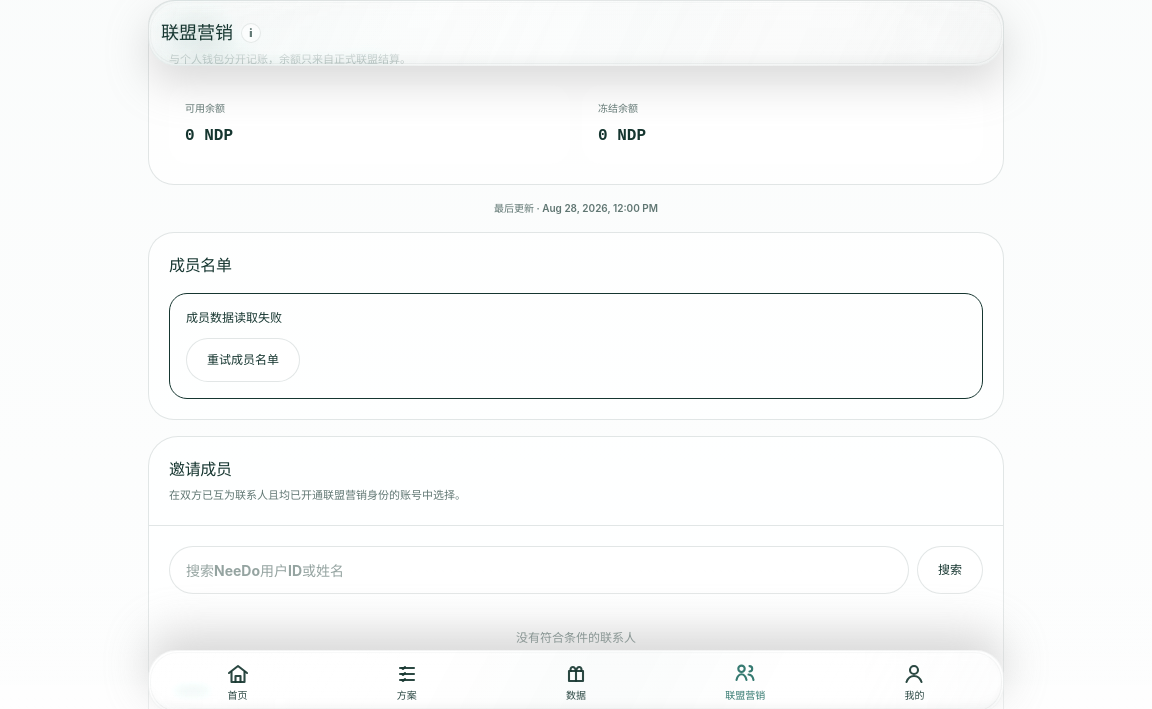
Test: AffiliateAlliancePage › renders expired history, paged controls, recoverable owner errors, and one create label
(page scrolled)
Click the button "重试成员名单" at (243, 360), box [186,338,300,382]
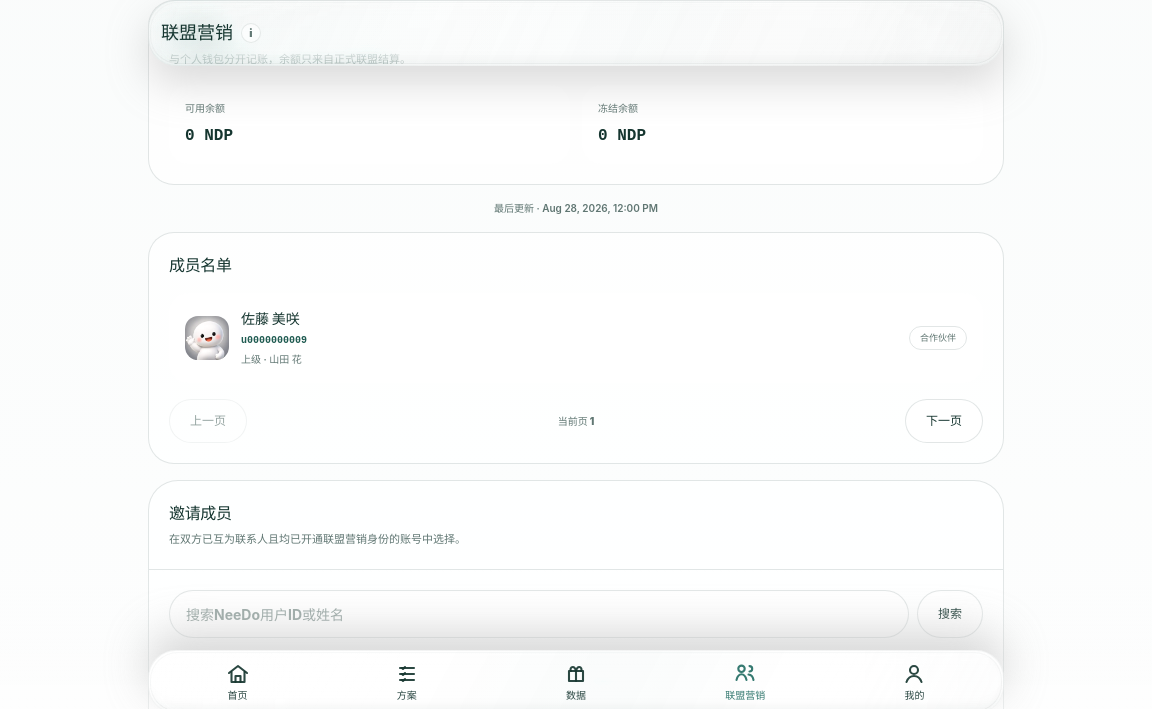
Expected: the text "下一页" is shown, [905,399,983,443]
